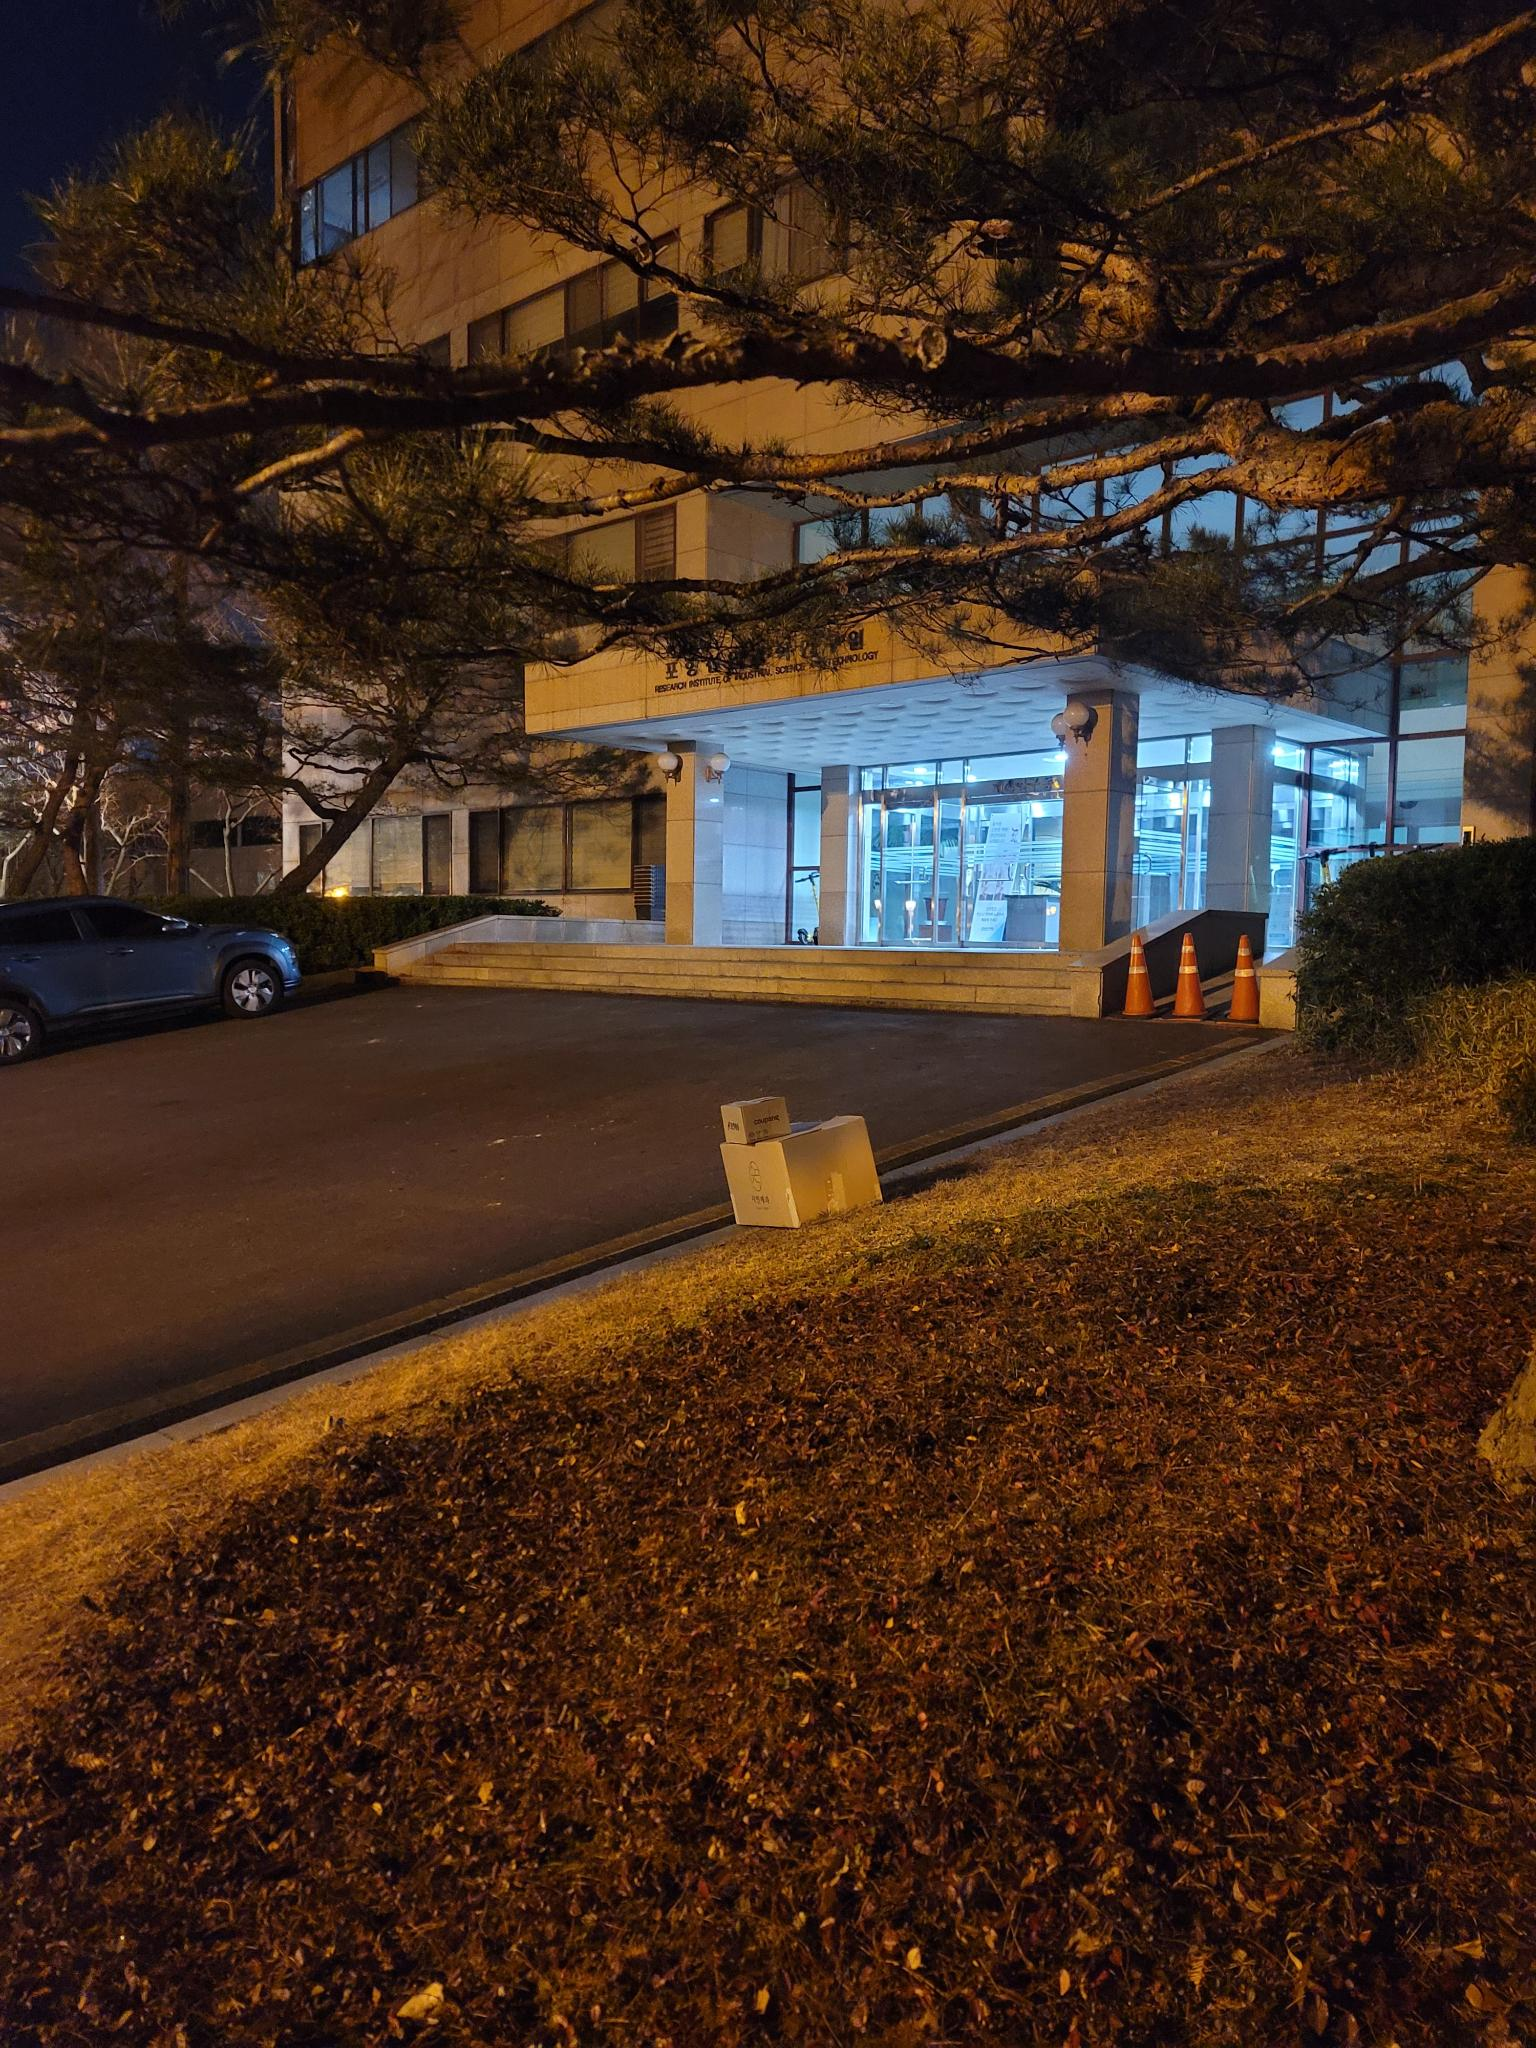Box: (723, 1111, 895, 1221), (715, 1077, 791, 1156)
